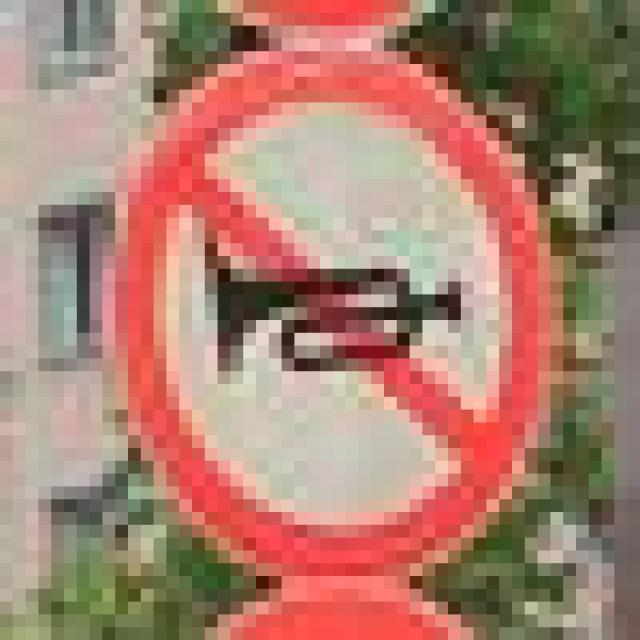horn prohibited: (89, 43, 571, 581)
